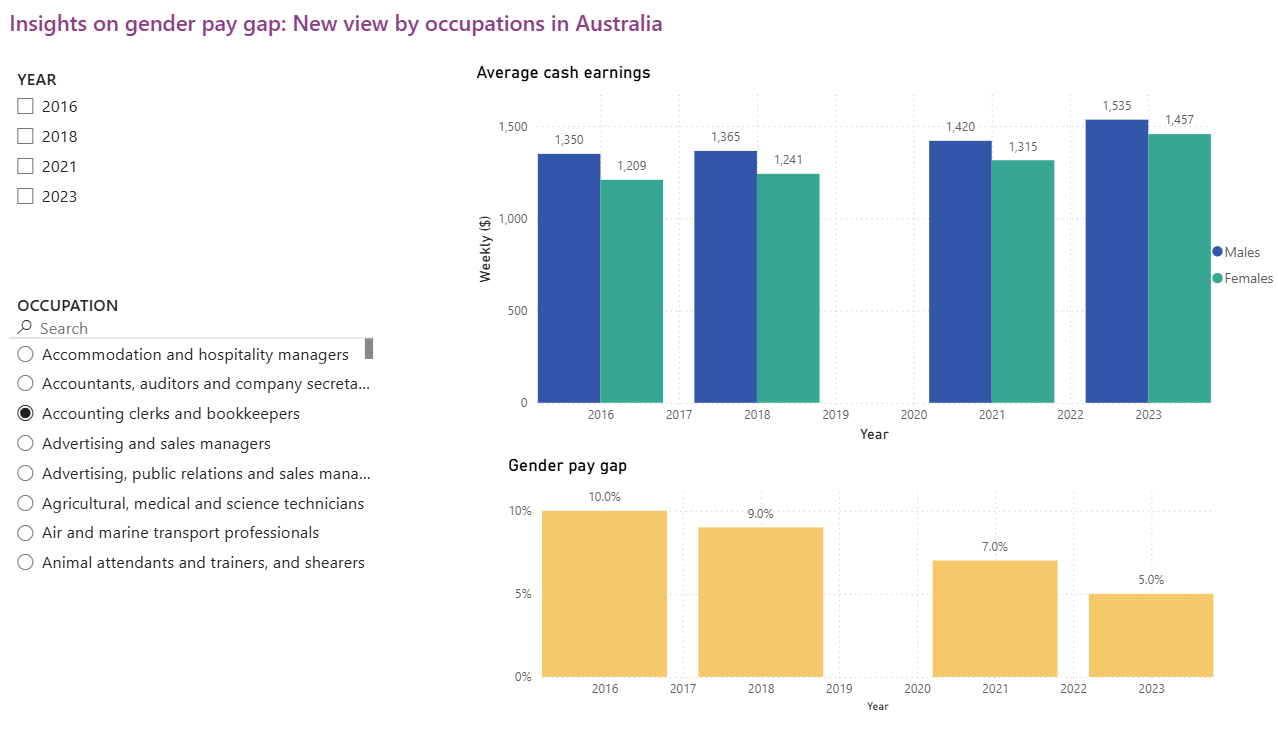

The dashboard page shown, as its layout file describes it:
{"tool":"powerbi","page":{"name":"Page 1","canvas":[1280,720],"ordinal":0},"visuals":[{"type":"slicer","fields":{"Values":["FACT_GENDER_PAY_GAP.OCCUPATION"]},"box":[31.1,285,363.8,281.1],"z":0},{"type":"clusteredColumnChart","title":"Average cash earnings","fields":{"Y":["Sum(FACT_GENDER_PAY_GAP.MALE_WEEKLY_EARNINGS)","Sum(FACT_GENDER_PAY_GAP.FEMALE_WEEKLY_EARNINGS)"],"Category":["FACT_GENDER_PAY_GAP.YEAR"]},"box":[485.3,65.2,794.7,374.5],"z":1000},{"type":"slicer","fields":{"Values":["FACT_GENDER_PAY_GAP.YEAR"]},"box":[31.1,65.2,363.8,193.6],"z":2000},{"type":"clusteredColumnChart","title":"Gender pay gap","fields":{"Category":["FACT_GENDER_PAY_GAP.YEAR"],"Y":["Sum(FACT_GENDER_PAY_GAP.WEEKLY_GENDER_PAY_GAP_PCT)"]},"box":[516.5,447.4,696.4,254.8],"z":3000},{"type":"textbox","box":[31.1,6.8,669.2,50.6],"z":3001}]}

Visuals, with their boxes in screenshot pixels (x1, y1, x2, y2), scaled from the page's 1280x720 canvas onto the 1278x729 screenshot:
slicer - FACT_GENDER_PAY_GAP.OCCUPATION: region(31, 289, 394, 573)
"Average cash earnings" clusteredColumnChart: region(485, 66, 1277, 445)
slicer - FACT_GENDER_PAY_GAP.YEAR: region(31, 66, 394, 262)
"Gender pay gap" clusteredColumnChart: region(516, 453, 1211, 711)
textbox: region(31, 7, 699, 58)
